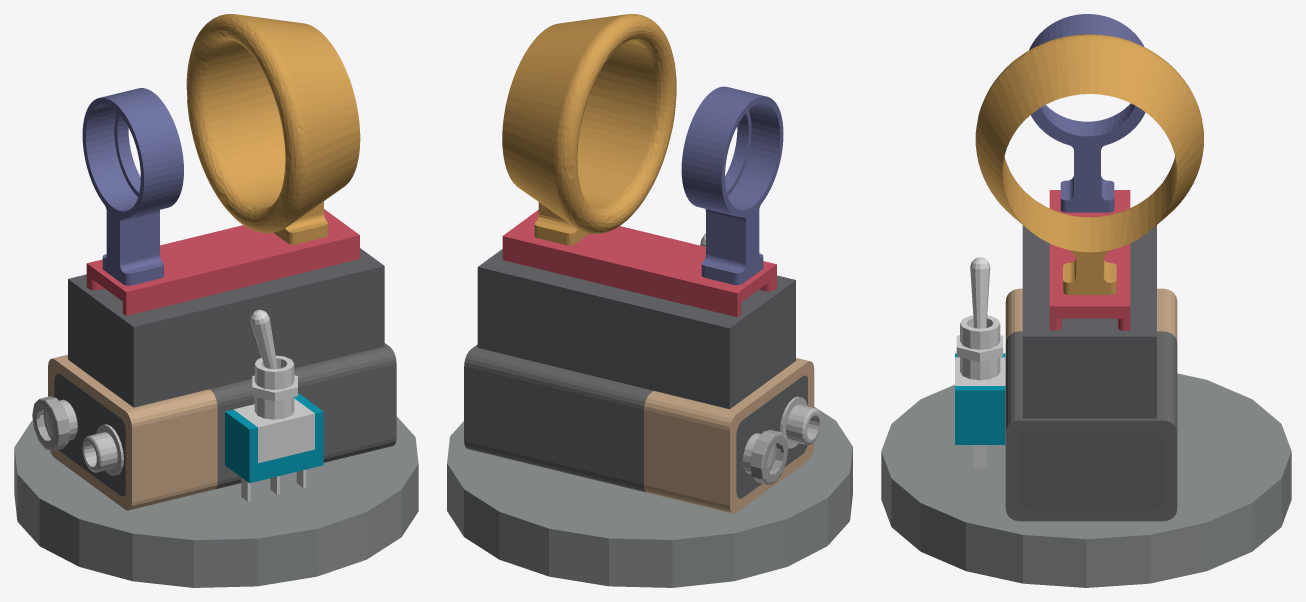
The model's file is Mag-lev Prototype B.glb.
The picture shows the model from 3 angles, left to right: view 1: azimuth 30°, elevation 25°; view 2: azimuth 150°, elevation 25°; view 3: azimuth 270°, elevation 25°; orthographic projection. The views are drawn at different scales.
Parts seen in each view (by area): view 1: Mesh_Mesh_head_geo.001_lambert2SG.001; view 2: Mesh_Mesh_head_geo.001_lambert2SG.001; view 3: Mesh_Mesh_head_geo.001_lambert2SG.001.
Boxes of the visible parts, box(x1,y1,x2,y2) form: Mesh_Mesh_head_geo.001_lambert2SG.001: box(14, 14, 418, 587); Mesh_Mesh_head_geo.001_lambert2SG.001: box(447, 14, 852, 587); Mesh_Mesh_head_geo.001_lambert2SG.001: box(881, 14, 1291, 587).
Size of the model in its own units: 62 by 79 by 61.
